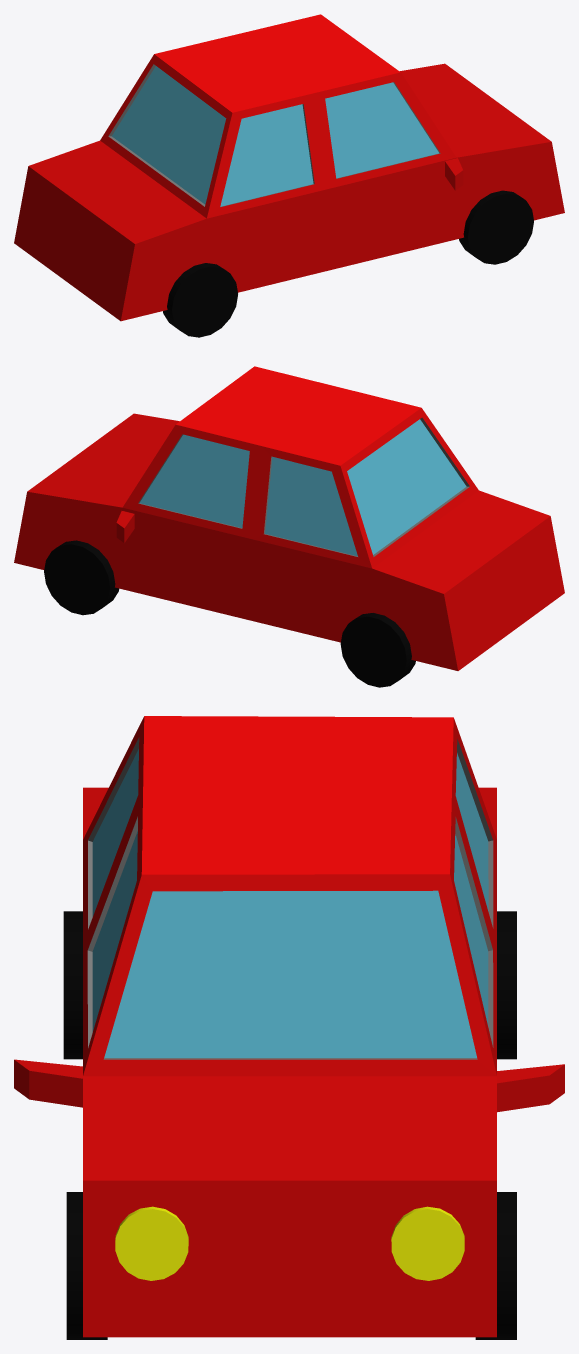
The model's file is car.fbx.
The picture shows the model from 3 angles, top to bottom: view 1: azimuth 30°, elevation 25°; view 2: azimuth 150°, elevation 25°; view 3: azimuth 270°, elevation 25°; orthographic projection. The views are drawn at different scales.
Visible parts, largest first — view 1: Box001, Cylinder003, Cylinder004, Box002; view 2: Box001, Cylinder001, Cylinder002, Box003; view 3: Box001, Cylinder006, Cylinder005, Cylinder001, Cylinder002, Cylinder003, Box002, Box003, Cylinder004.
Boxes of the visible parts, left/top/right/bottom form: Box001: left=14, top=14, right=564, bottom=321; Cylinder003: left=163, top=263, right=237, bottom=337; Cylinder004: left=459, top=190, right=533, bottom=264; Box002: left=445, top=158, right=463, bottom=190; Box001: left=14, top=366, right=564, bottom=670; Cylinder001: left=44, top=540, right=119, bottom=615; Cylinder002: left=340, top=613, right=415, bottom=687; Box003: left=116, top=511, right=134, bottom=543; Box001: left=83, top=716, right=496, bottom=1337; Cylinder006: left=115, top=1206, right=188, bottom=1280; Cylinder005: left=391, top=1206, right=464, bottom=1280; Cylinder001: left=475, top=1192, right=516, bottom=1339; Cylinder002: left=497, top=911, right=516, bottom=1059; Cylinder003: left=63, top=911, right=82, bottom=1059; Box002: left=14, top=1059, right=82, bottom=1107; Box003: left=497, top=1064, right=564, bottom=1112; Cylinder004: left=66, top=1192, right=107, bottom=1339.
Size of the model in its own units: 60.31 by 25.49 by 33.4.
